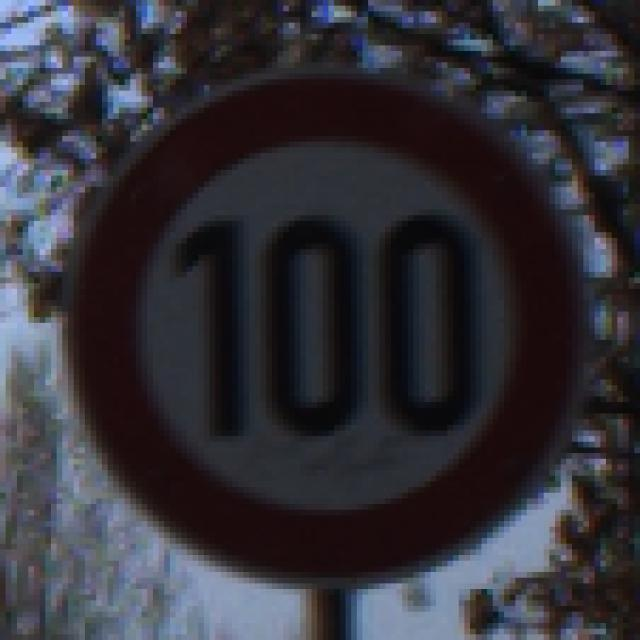speed limit 100: (54, 70, 592, 593)
